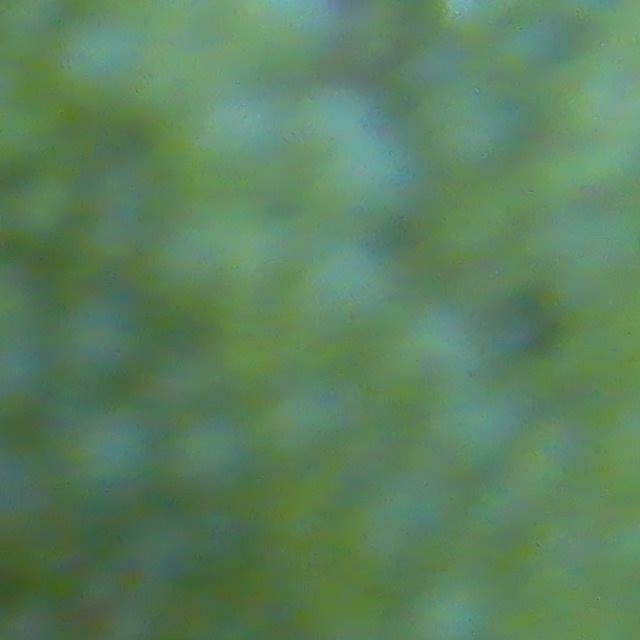SeaGrape: (52, 288, 151, 388), (59, 401, 159, 495), (163, 409, 254, 497)
